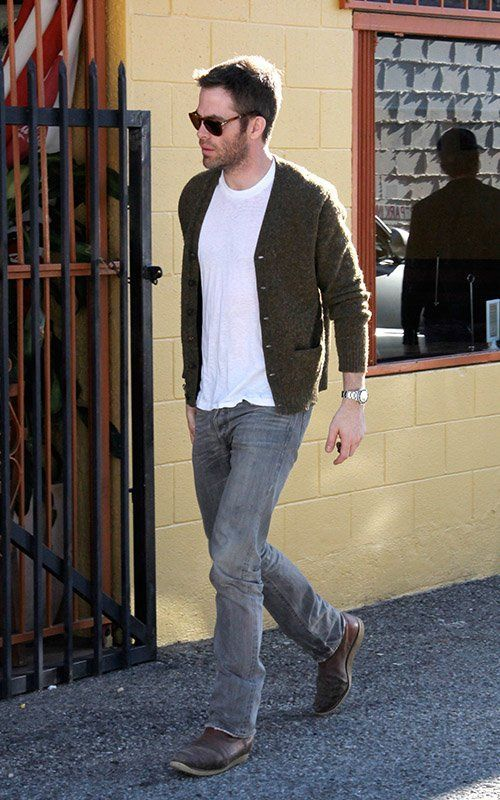Person: (167, 54, 372, 777)
